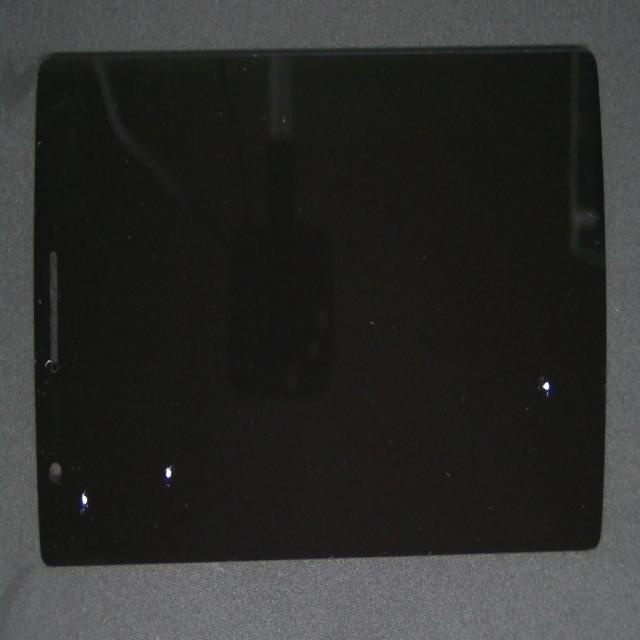stain: (286, 141, 640, 550), (89, 265, 268, 640), (36, 269, 109, 640)
